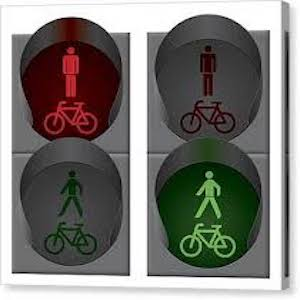green: (179, 166, 239, 260)
red: (40, 44, 105, 140)
